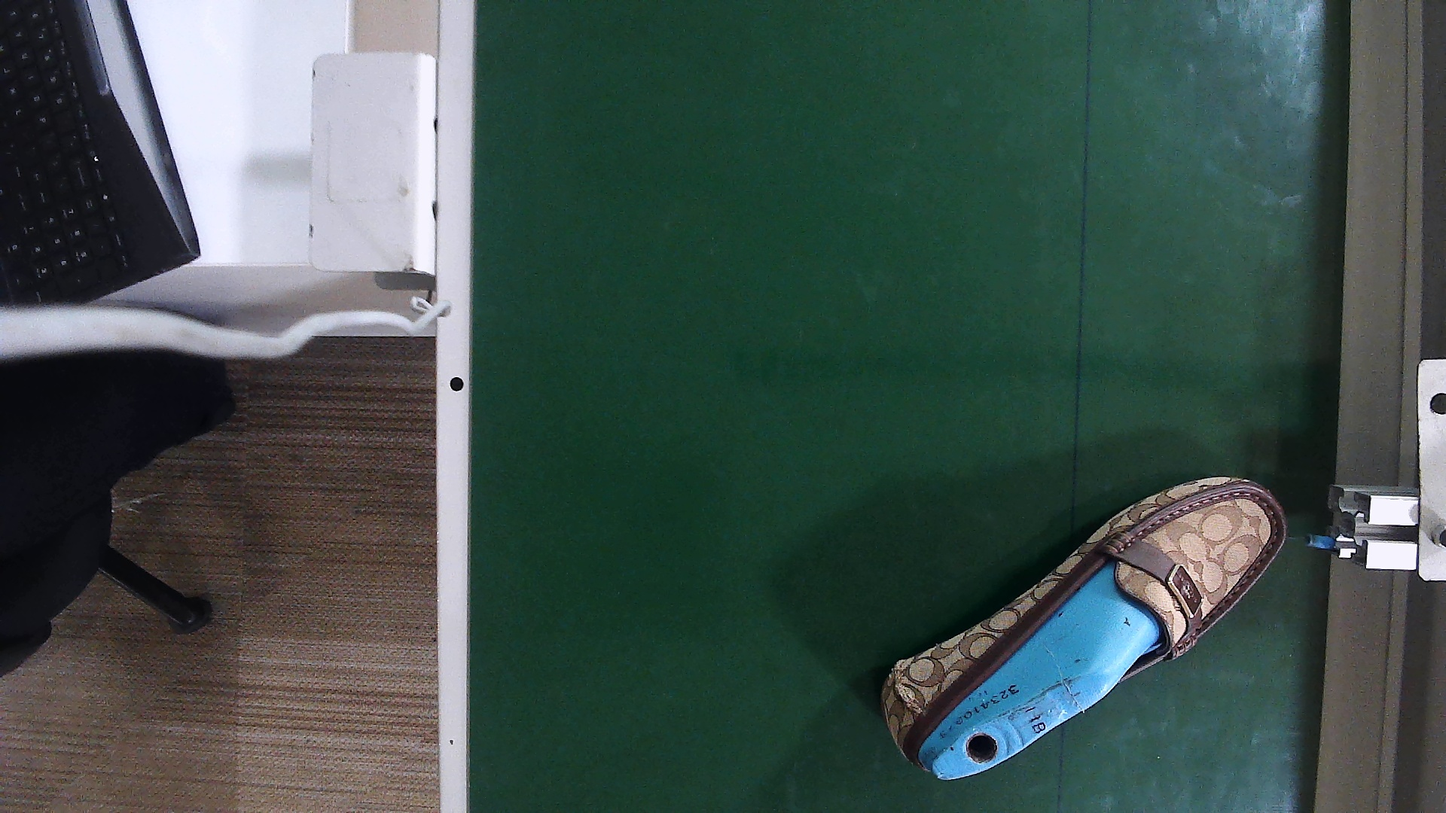shoe: (886, 480, 1283, 778)
